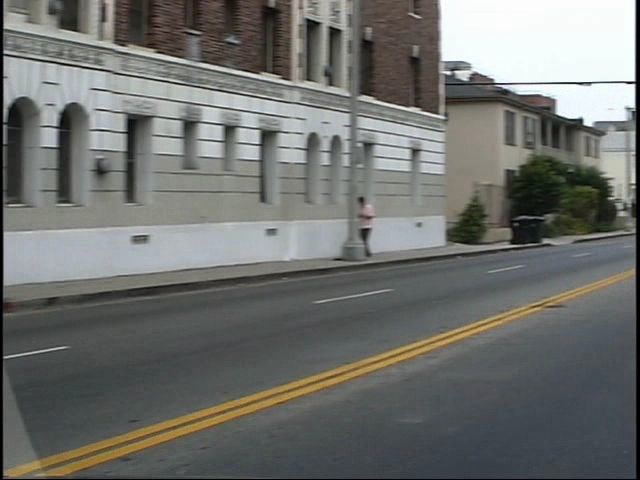person: (374, 190, 397, 258)
